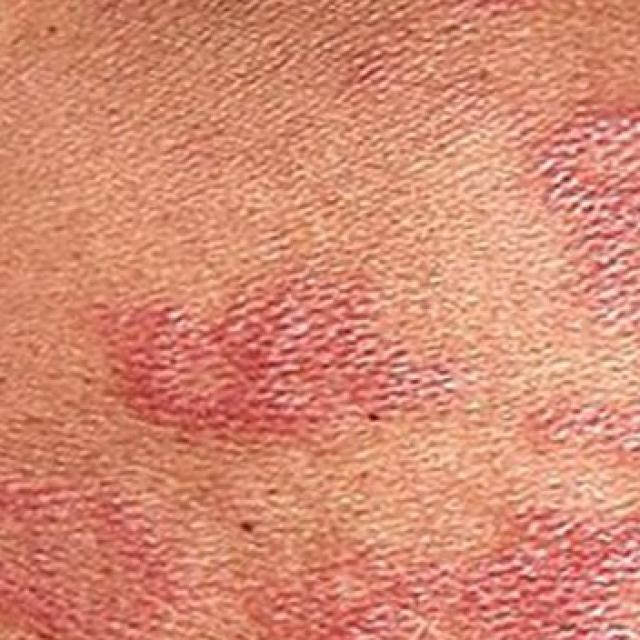Leprosy: (252, 500, 640, 640), (112, 284, 484, 429), (528, 98, 640, 347), (518, 391, 640, 471)
